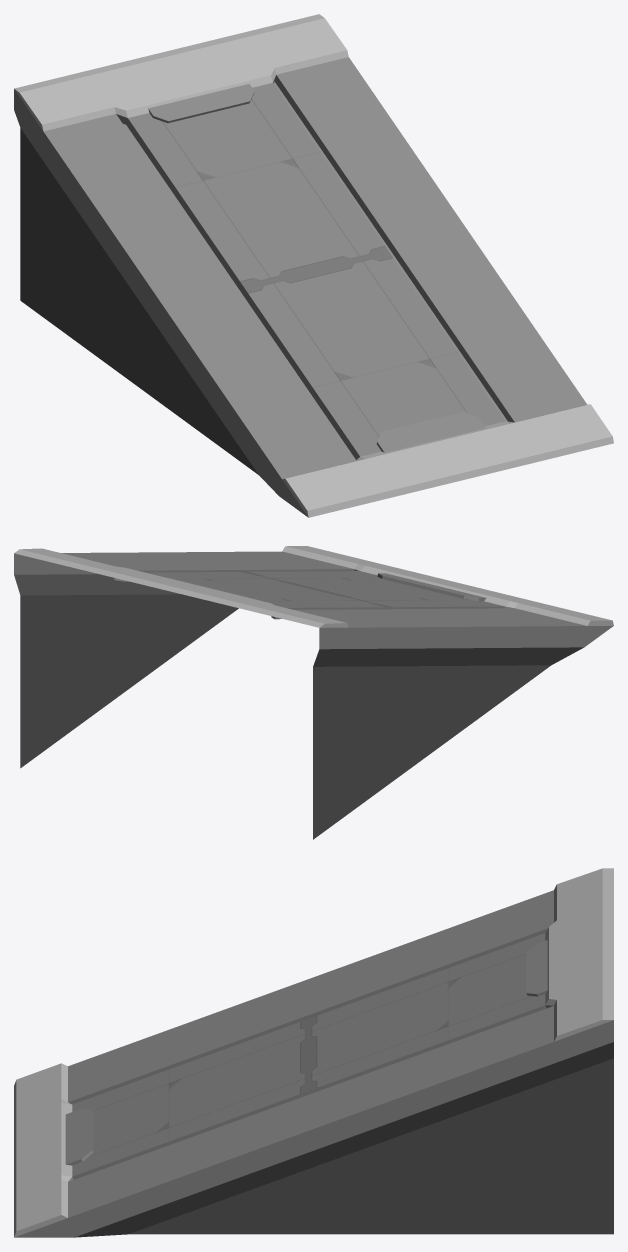
Rendered from SM_Ramp_2x5.fbx.
The picture shows the model from 3 angles, top to bottom: view 1: azimuth 30°, elevation 25°; view 2: azimuth 150°, elevation 25°; view 3: azimuth 270°, elevation 25°; orthographic projection.
Visible parts, largest first — view 1: SM_Ramp_2x5; view 2: SM_Ramp_2x5; view 3: SM_Ramp_2x5.
Part boxes in pixels (<box>): SM_Ramp_2x5: <box>14,14,613,517</box>; SM_Ramp_2x5: <box>14,546,613,839</box>; SM_Ramp_2x5: <box>14,868,613,1237</box>.
Size of the model in its own units: 299 by 200 by 500.
